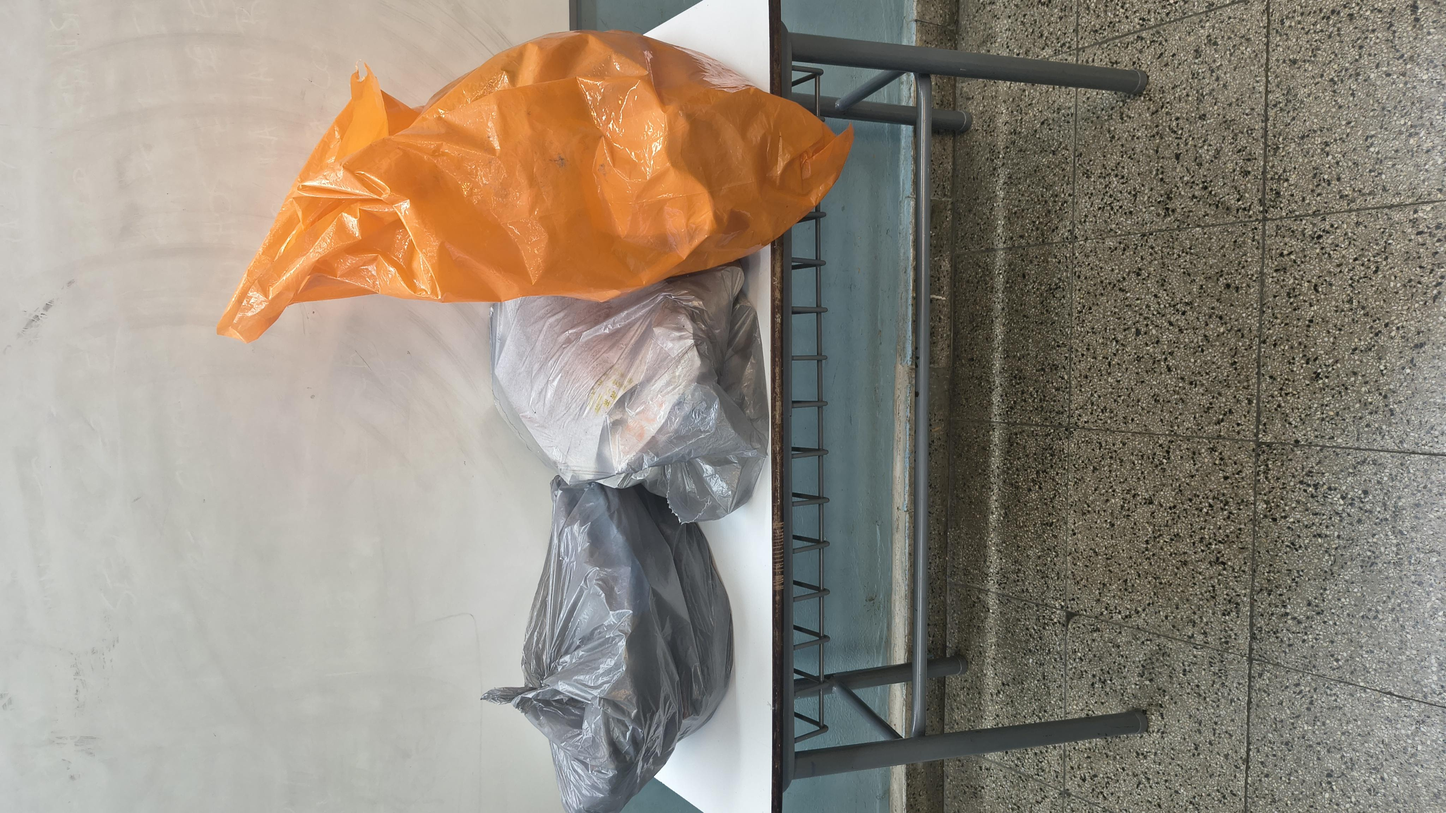Garbage: (816, 113, 1425, 496), (533, 230, 1036, 457), (6, 268, 571, 457)
